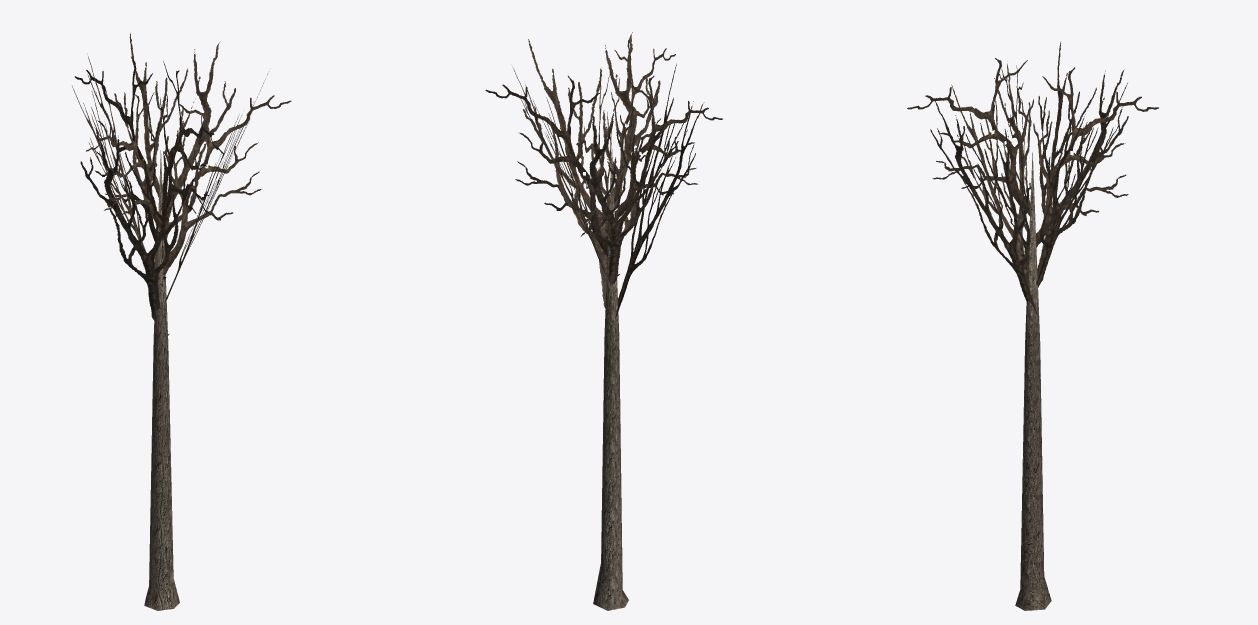
The model's file is smalltree1a.fbx.
3 views of the same model, side by side, from view 1: azimuth 30°, elevation 25°; view 2: azimuth 150°, elevation 25°; view 3: azimuth 270°, elevation 25° (orthographic).
Parts seen in each view (by area): view 1: mesh_0, mesh_5, mesh_7, mesh_1, mesh_8, mesh_2, mesh_4, mesh_3, mesh_6; view 2: mesh_0, mesh_6, mesh_8, mesh_5, mesh_1, mesh_3, mesh_7, mesh_4, mesh_2; view 3: mesh_0, mesh_6, mesh_8, mesh_5, mesh_7, mesh_2, mesh_4.
Part boxes in pixels (<box>): mesh_0: <box>144,150,179,610</box>; mesh_5: <box>80,127,193,320</box>; mesh_7: <box>114,33,235,268</box>; mesh_1: <box>163,86,291,335</box>; mesh_8: <box>72,53,145,251</box>; mesh_2: <box>74,56,163,258</box>; mesh_4: <box>160,61,223,279</box>; mesh_3: <box>86,92,163,286</box>; mesh_6: <box>164,74,267,302</box>; mesh_0: <box>593,143,628,610</box>; mesh_6: <box>523,32,660,308</box>; mesh_8: <box>571,99,678,284</box>; mesh_5: <box>615,63,704,318</box>; mesh_1: <box>485,76,608,256</box>; mesh_3: <box>615,76,722,276</box>; mesh_7: <box>513,68,611,286</box>; mesh_4: <box>611,36,675,205</box>; mesh_2: <box>570,74,612,240</box>; mesh_0: <box>1015,152,1051,610</box>; mesh_6: <box>930,101,1037,314</box>; mesh_8: <box>1037,42,1128,283</box>; mesh_5: <box>951,61,1031,281</box>; mesh_7: <box>1036,83,1127,287</box>; mesh_2: <box>1028,67,1158,254</box>; mesh_4: <box>907,58,1033,278</box>.
Size of the model in its own units: 287 by 438 by 292.
2 materials, 2 textured.
